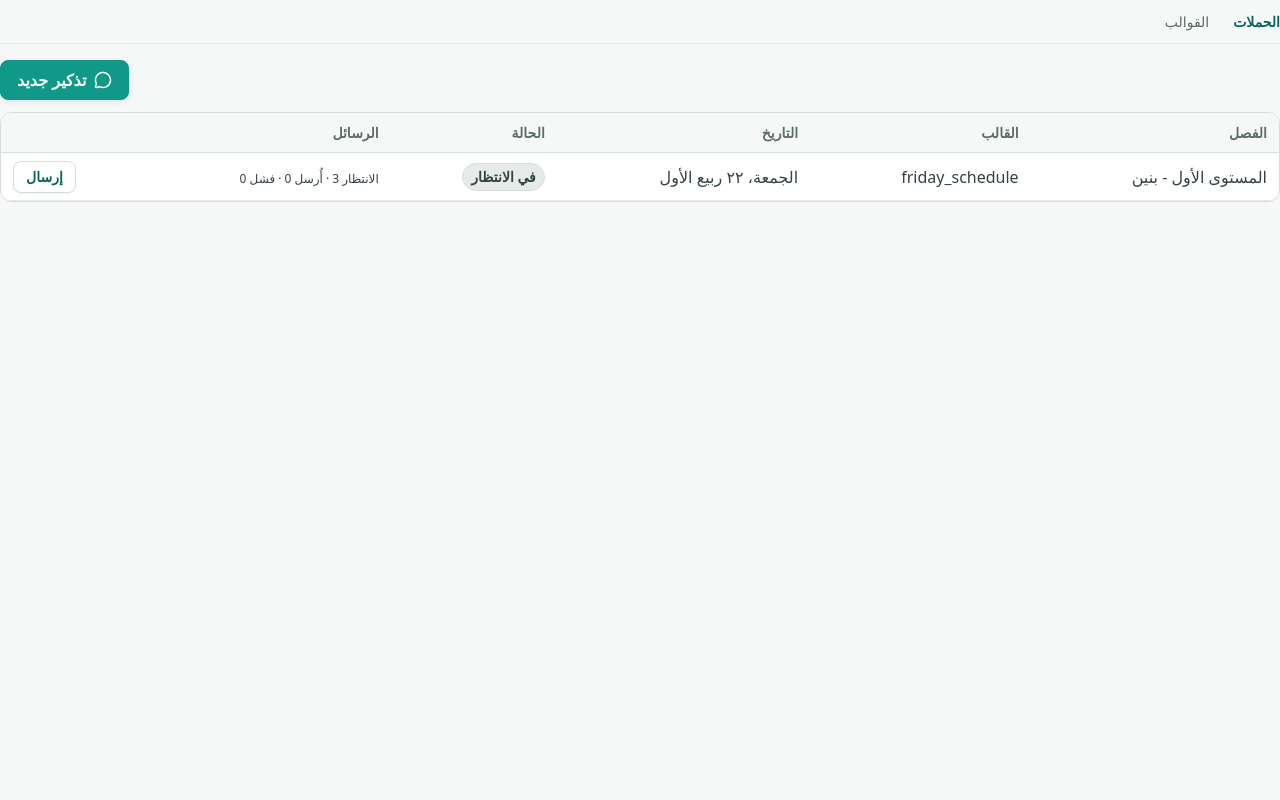
Scenario: WhatsAppPage › sends a campaign and shows the outcome
Check: the text "المستوى الأول - بنين" is shown, box [1031,153,1279,201]
Click the button "إرسال" at (44, 176), box [13,160,76,192]
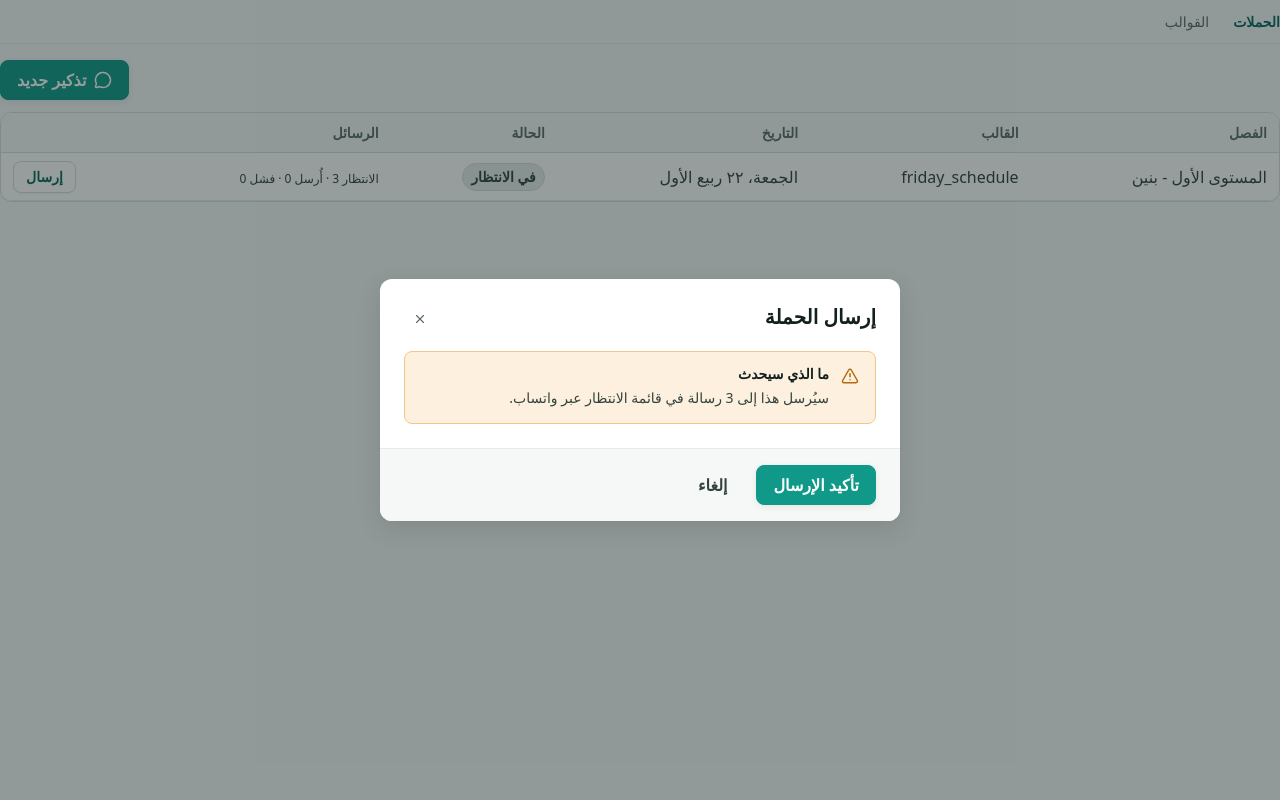
Click the button "تأكيد الإرسال" at (816, 485), box [756,465,876,505]
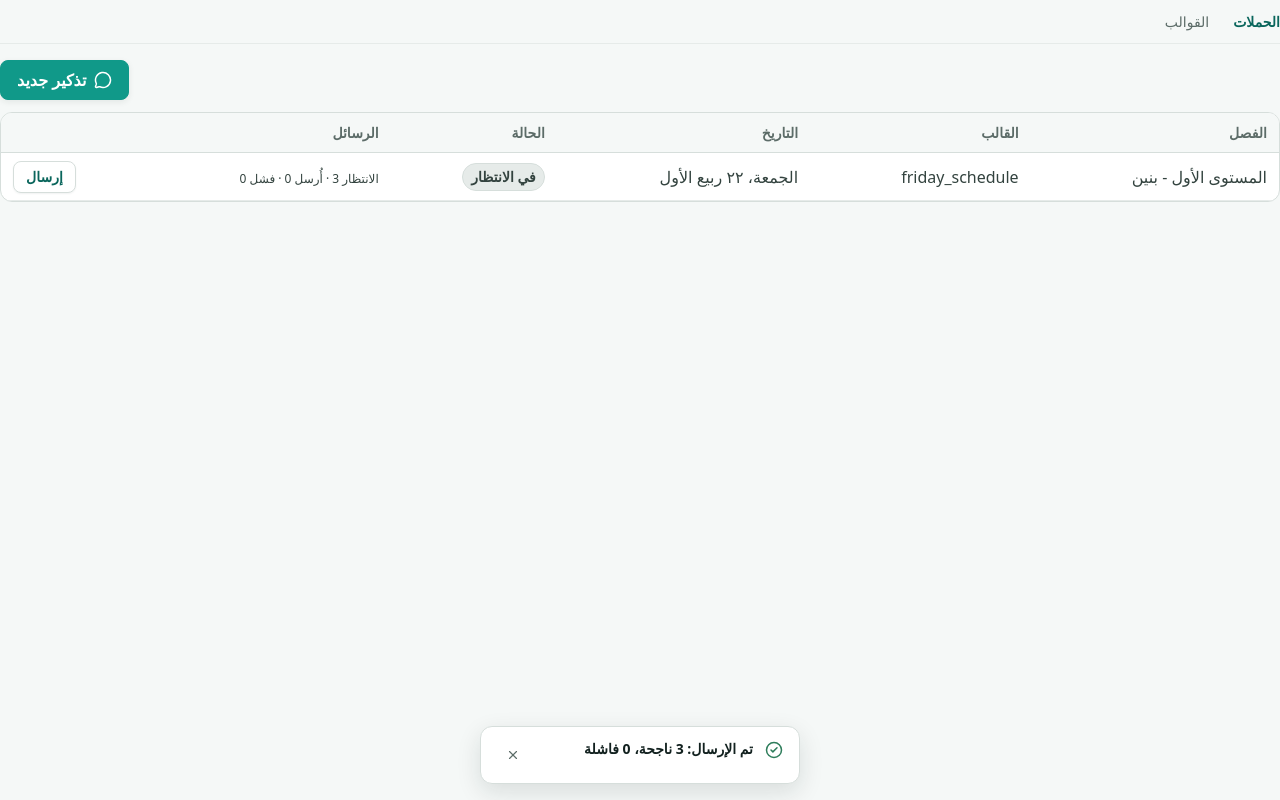
Check: the text "تم الإرسال: 3 ناجحة، 0 فاشلة" is shown, box [584,739,753,758]
